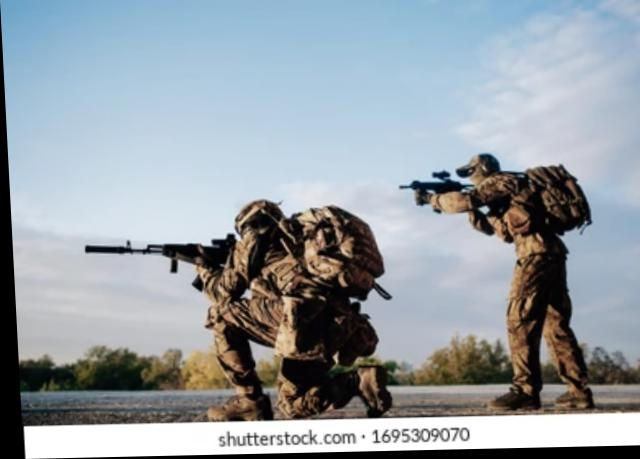other: (187, 197, 385, 420), (456, 140, 573, 411)
